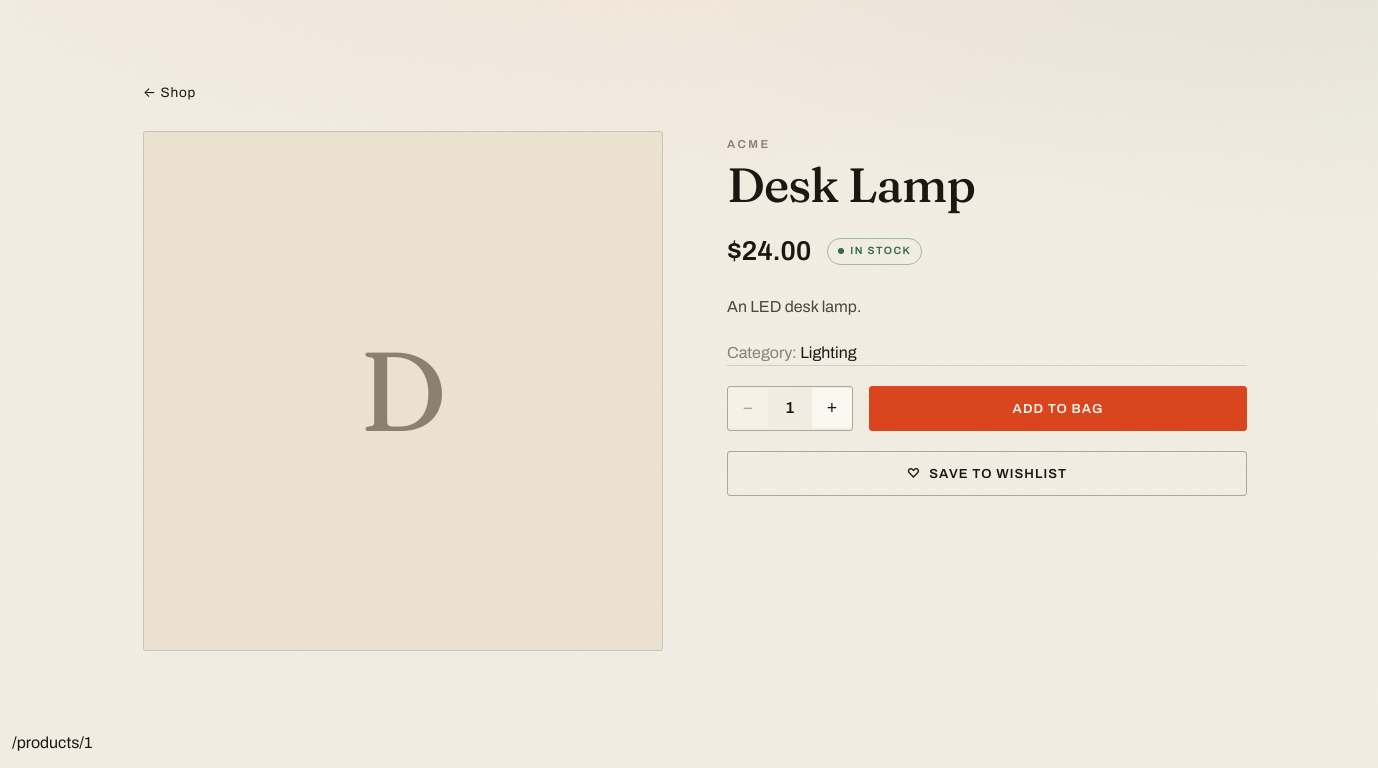
ProductDetailPage › shows why adding failed
The width and height of the screenshot is (1378, 768).
Click the button "Add to bag": (1058, 408) [869,386,1247,431]
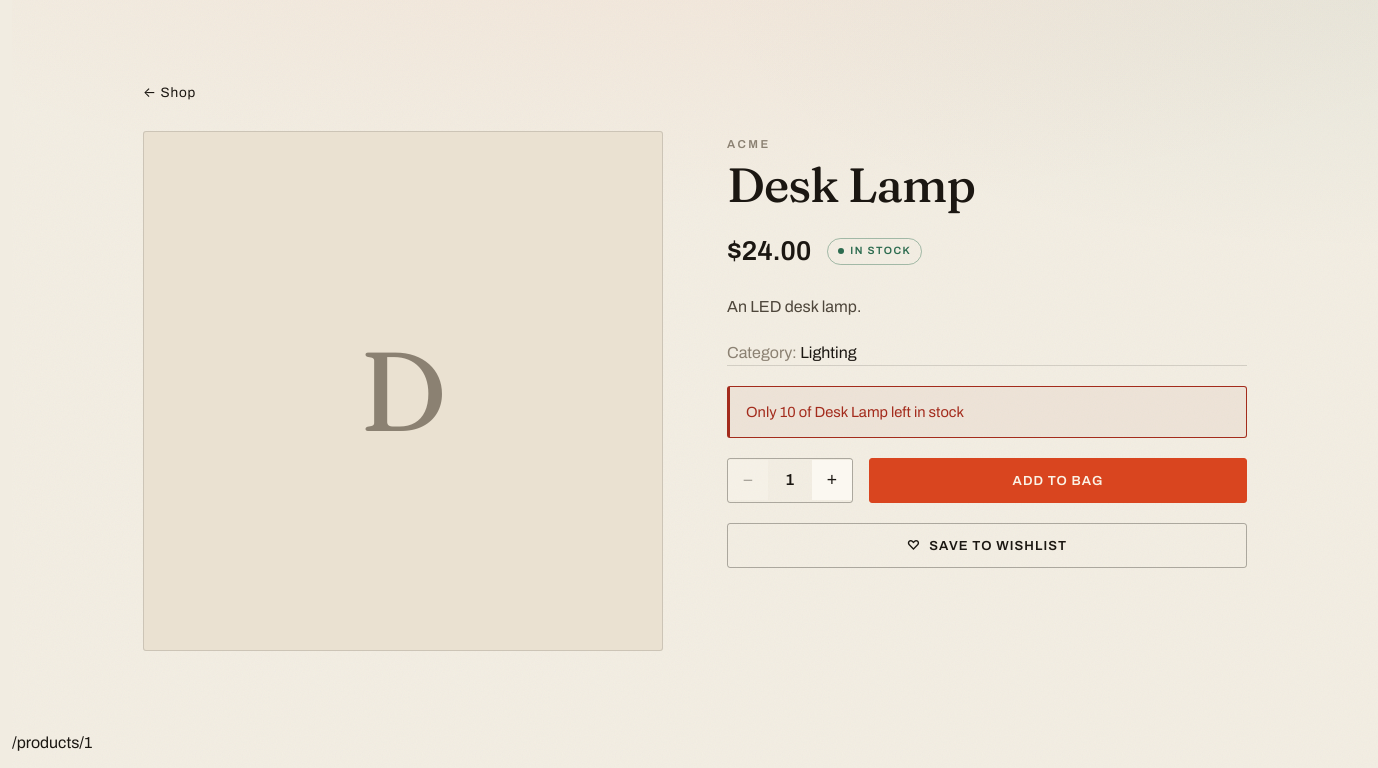
Expected: the message reads "Only 10 of Desk Lamp left in stock", [746,404,964,420]
